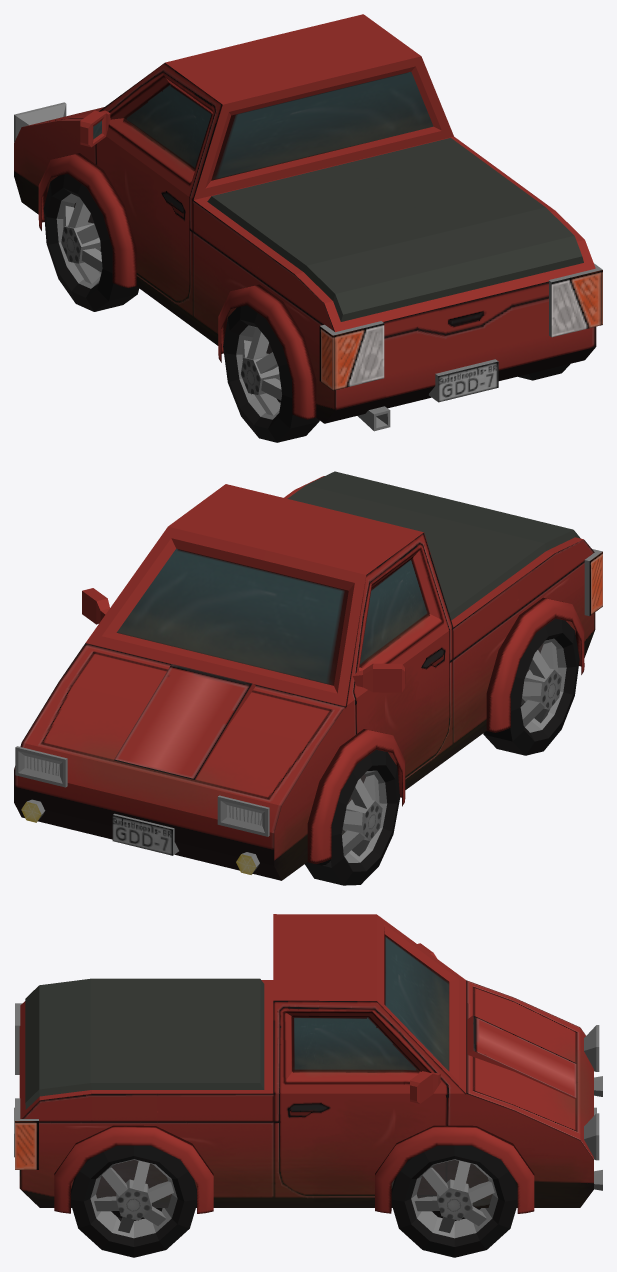
The model's file is carro1.fbx.
3 renders of one model, top to bottom at view 1: azimuth 30°, elevation 25°; view 2: azimuth 150°, elevation 25°; view 3: azimuth 270°, elevation 25°, orthographic. The views are drawn at different scales.
Visible parts, largest first — view 1: carro1; view 2: carro1; view 3: carro1.
Boxes of the visible parts, x1=… form: carro1: x1=14, y1=14, x2=602, y2=442; carro1: x1=14, y1=471, x2=602, y2=885; carro1: x1=14, y1=914, x2=602, y2=1257.
Bounding box in the file's own units: 211 × 166 × 373.
